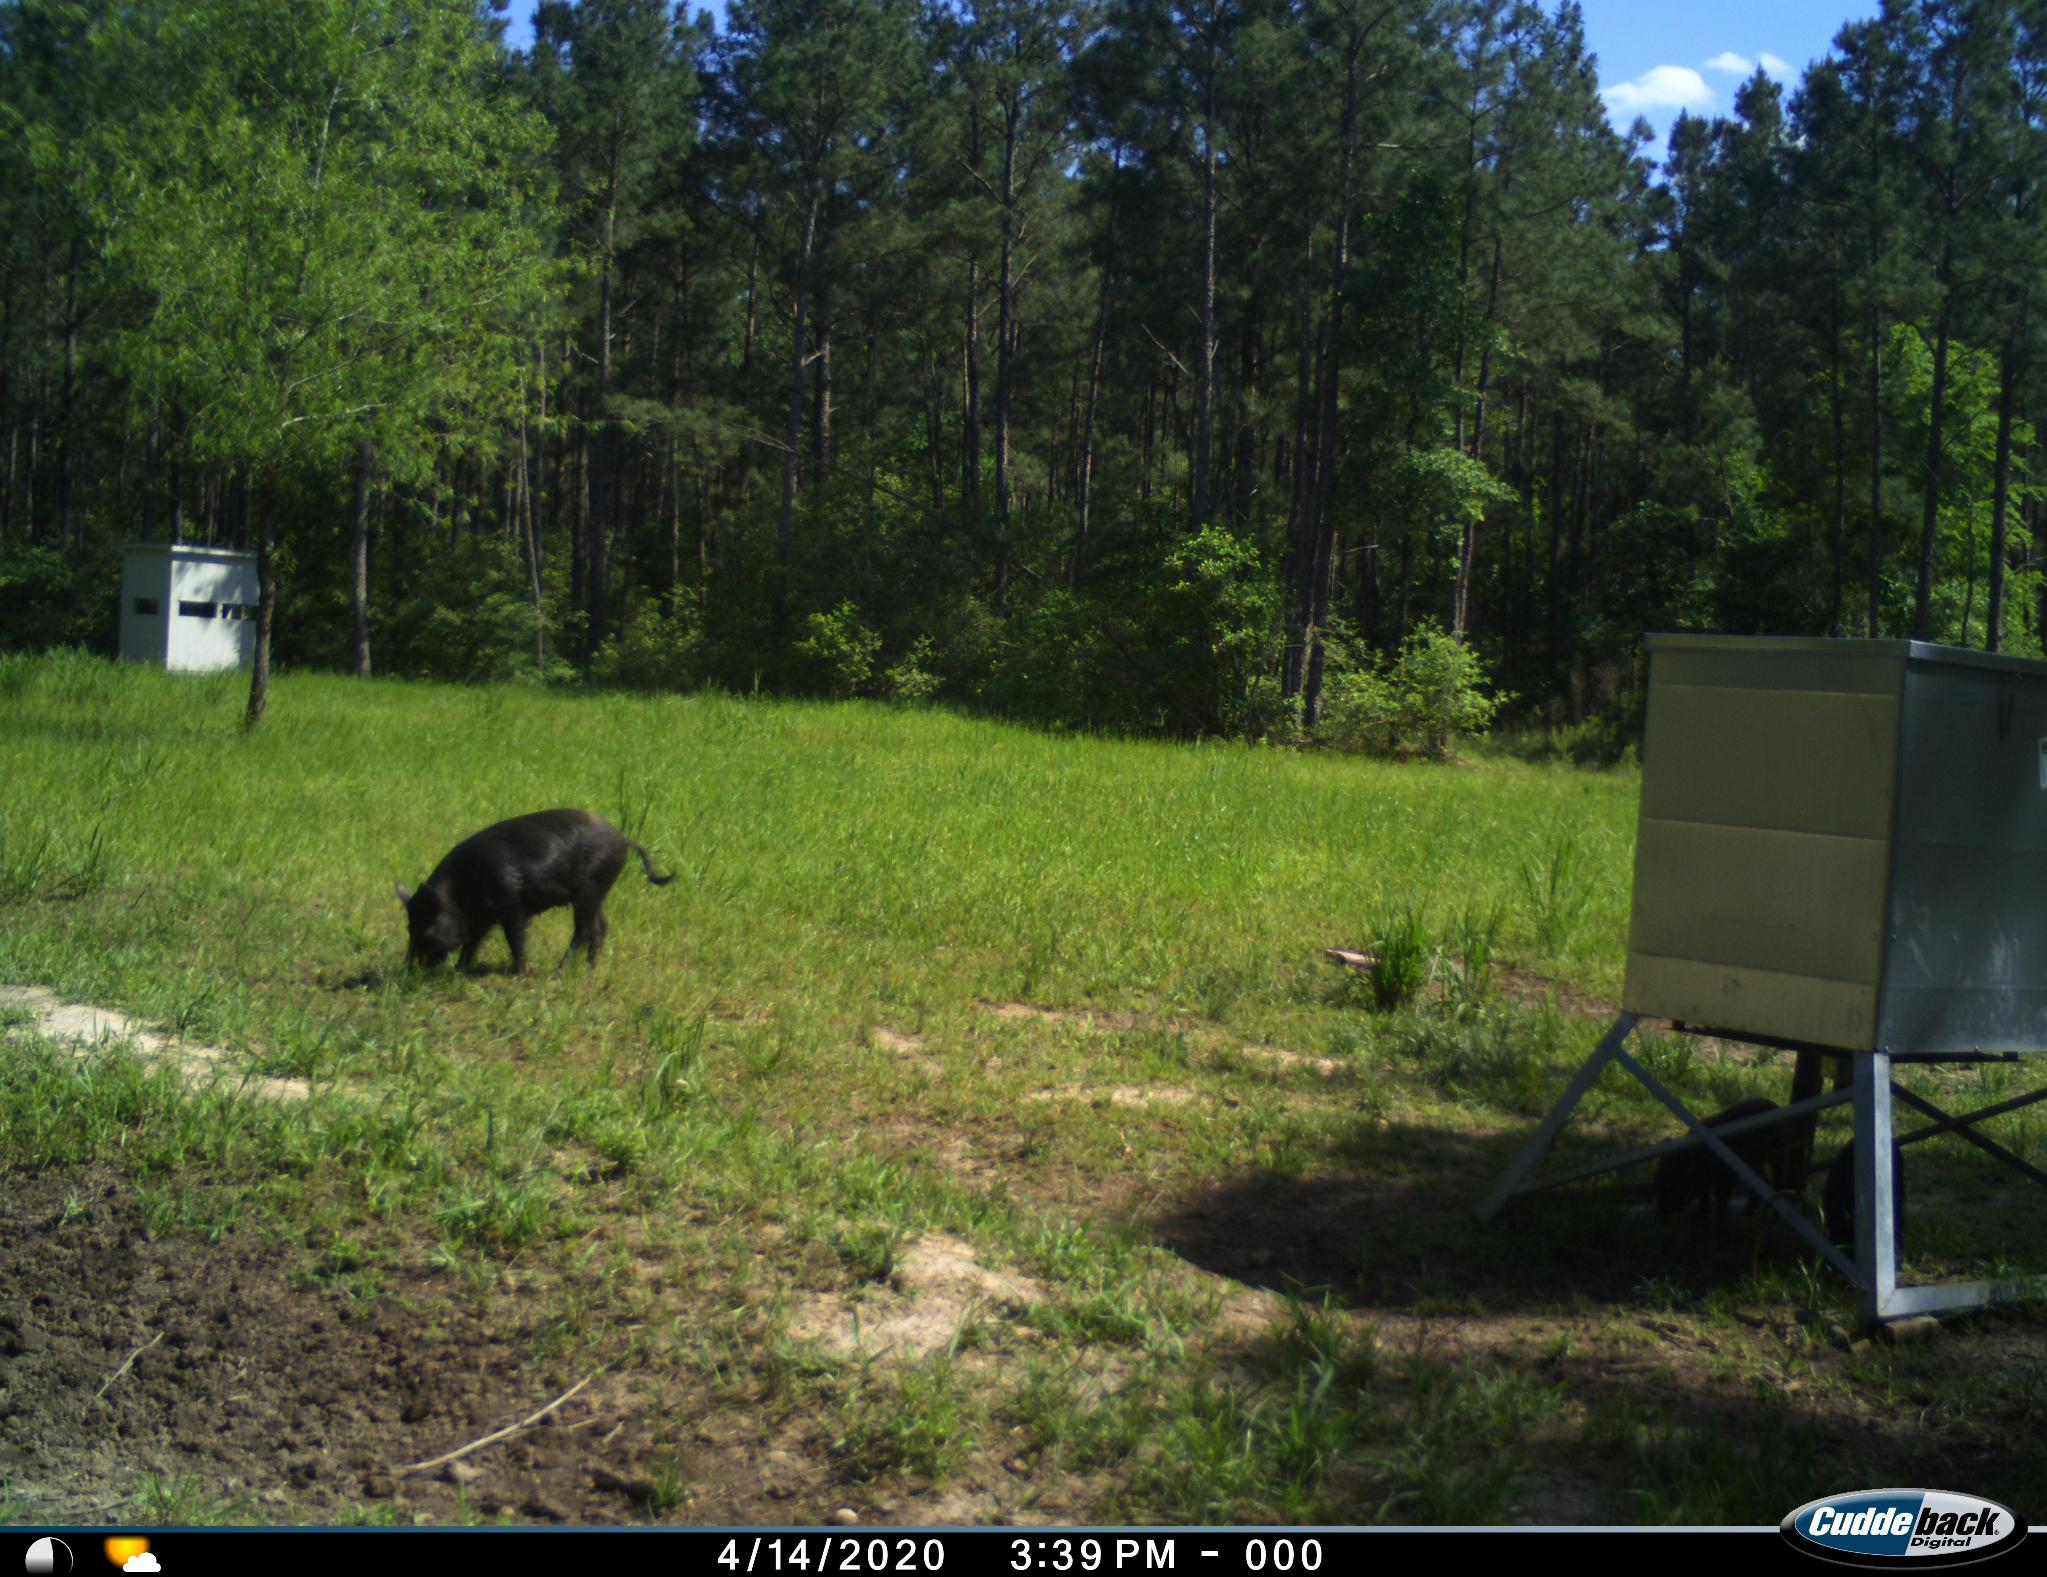Hog: (384, 797, 684, 984)
